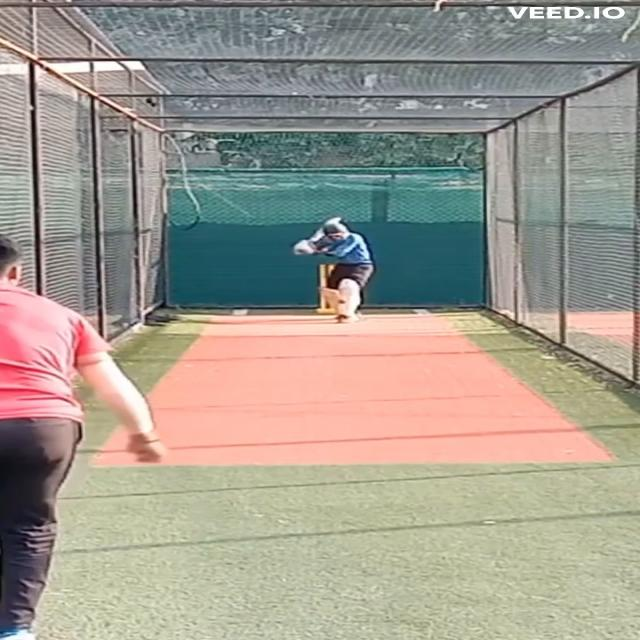ball: (336, 298, 347, 305)
stump: (316, 263, 336, 314)
